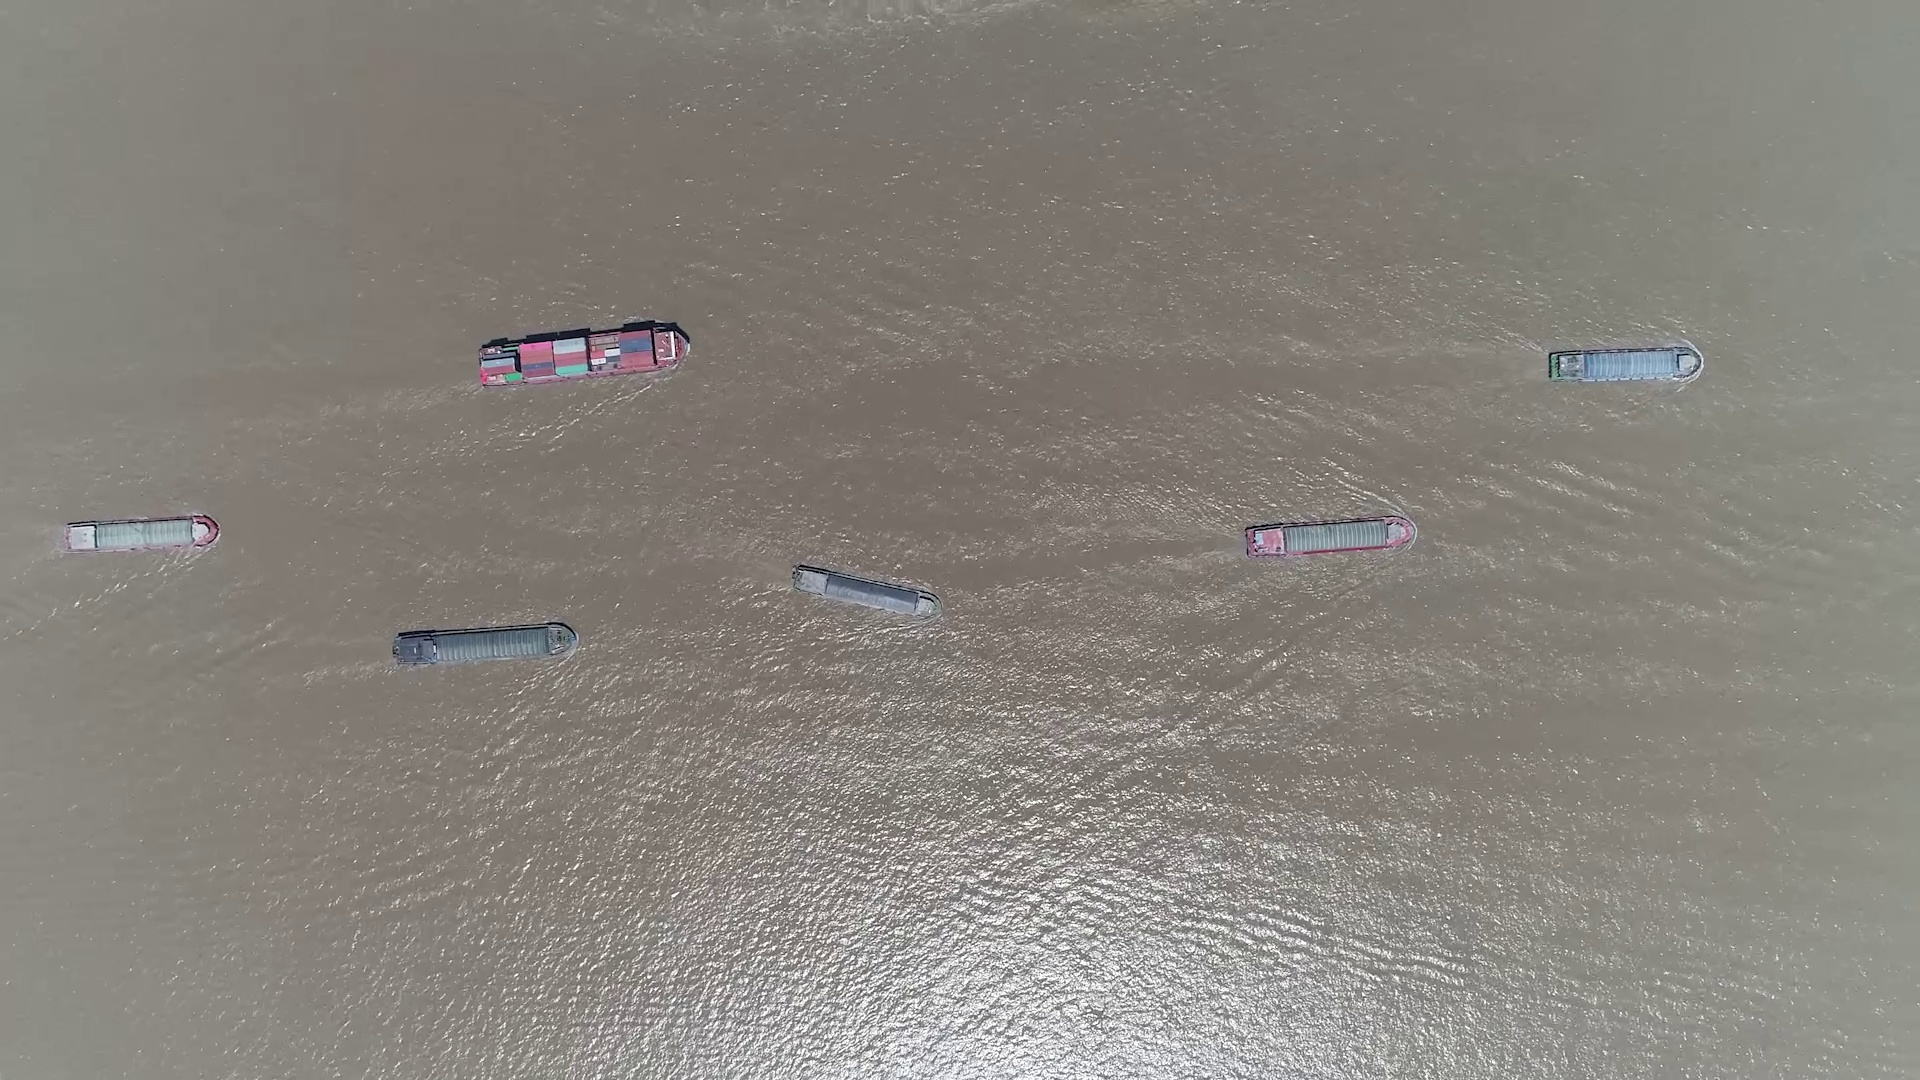ship: (477, 323, 688, 390), (392, 622, 578, 669), (793, 563, 940, 618), (1244, 516, 1415, 556), (63, 516, 216, 553), (1549, 348, 1702, 382)
